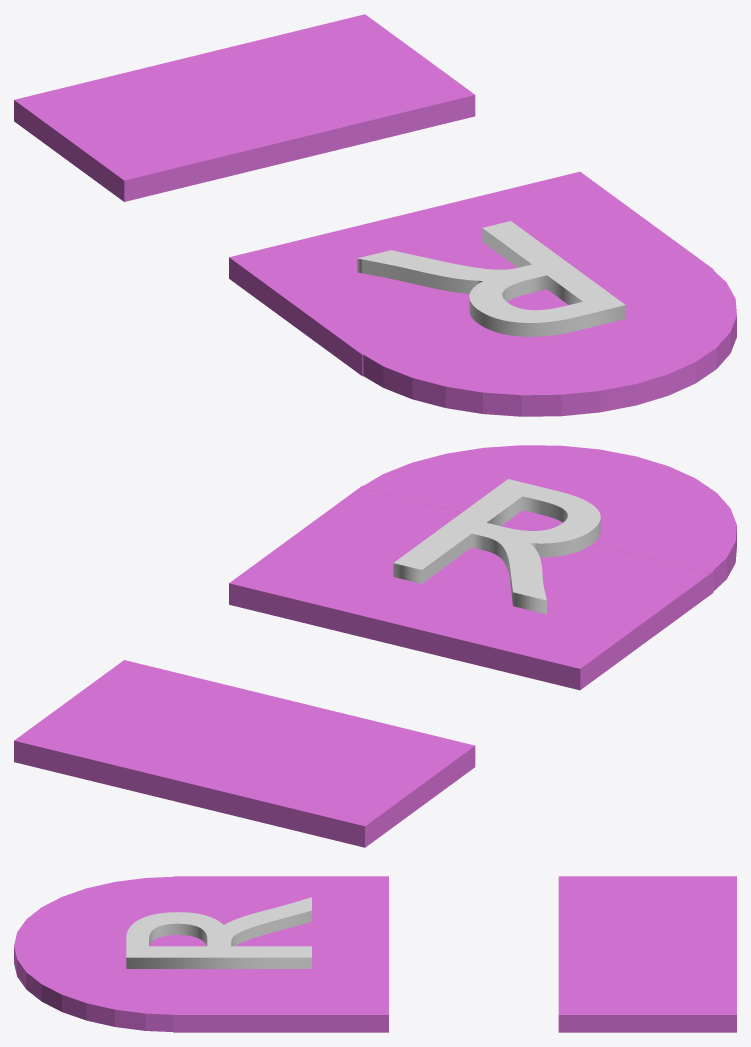
Rendered from rightFootPrefab.fbx.
The picture shows the model from 3 angles, top to bottom: view 1: azimuth 30°, elevation 25°; view 2: azimuth 150°, elevation 25°; view 3: azimuth 270°, elevation 25°; orthographic projection. The views are drawn at different scales.
Visible parts, largest first — view 1: heel, toes2, toes1, footnaming; view 2: toes2, heel, toes1, footnaming; view 3: heel, toes2, toes1, footnaming.
Part boxes in pixels (x1,y1,x2,y2): heel: (14, 14, 475, 201); toes2: (229, 171, 713, 376); toes1: (360, 267, 736, 416); footnaming: (357, 221, 625, 336); toes2: (229, 485, 713, 690); heel: (14, 660, 475, 847); toes1: (360, 445, 736, 590); footnaming: (393, 479, 600, 614); heel: (558, 876, 736, 1032); toes2: (173, 876, 388, 1032); toes1: (14, 876, 177, 1031); footnaming: (126, 897, 311, 968).
Bounding box in the file's own units: 120 × 11.58 × 265.
